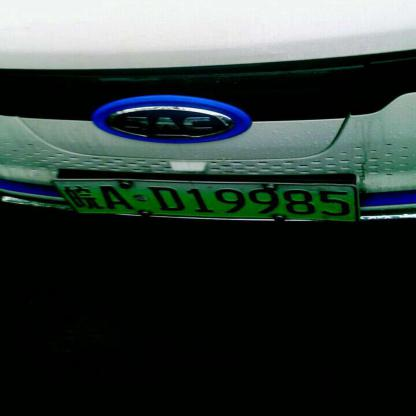lp: (52, 179, 78, 220)
